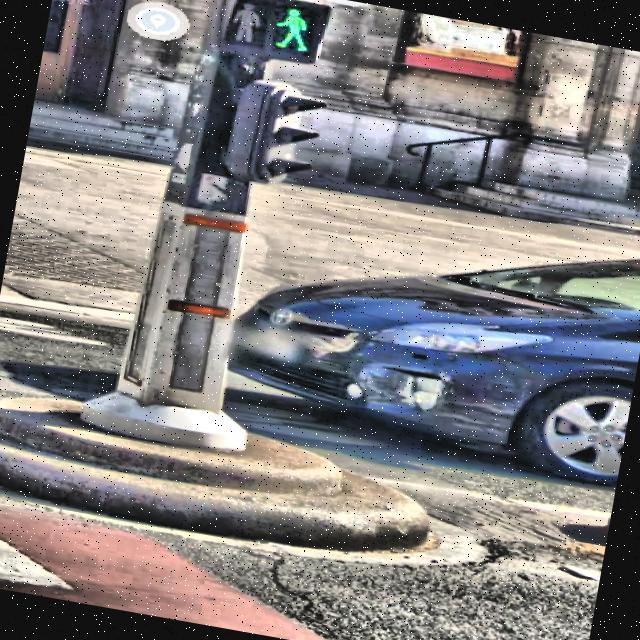green_light: (264, 0, 320, 55)
